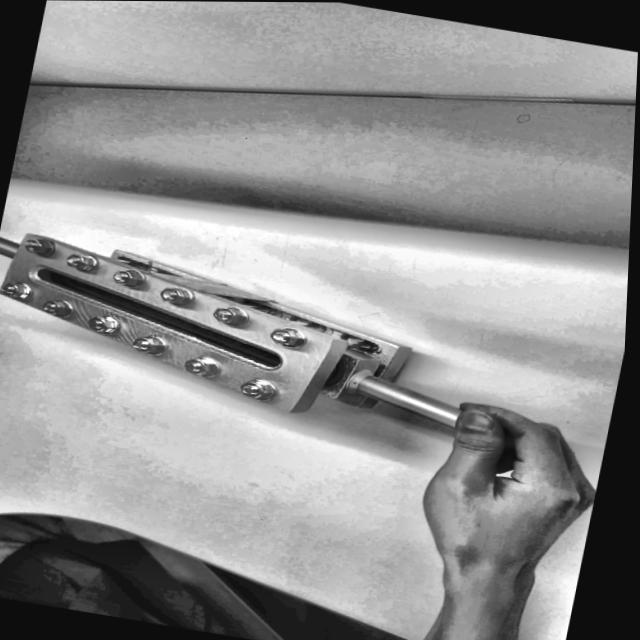ShuiWeiQi_12: (0, 217, 481, 456)
